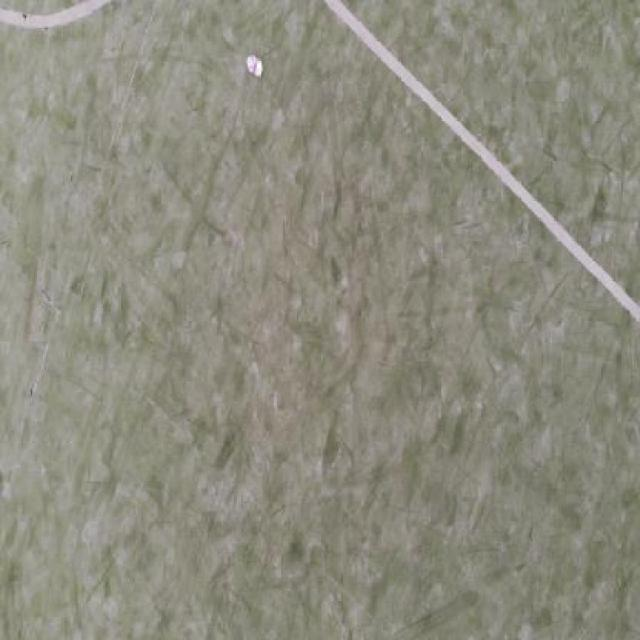Garbage: (245, 52, 263, 76)
